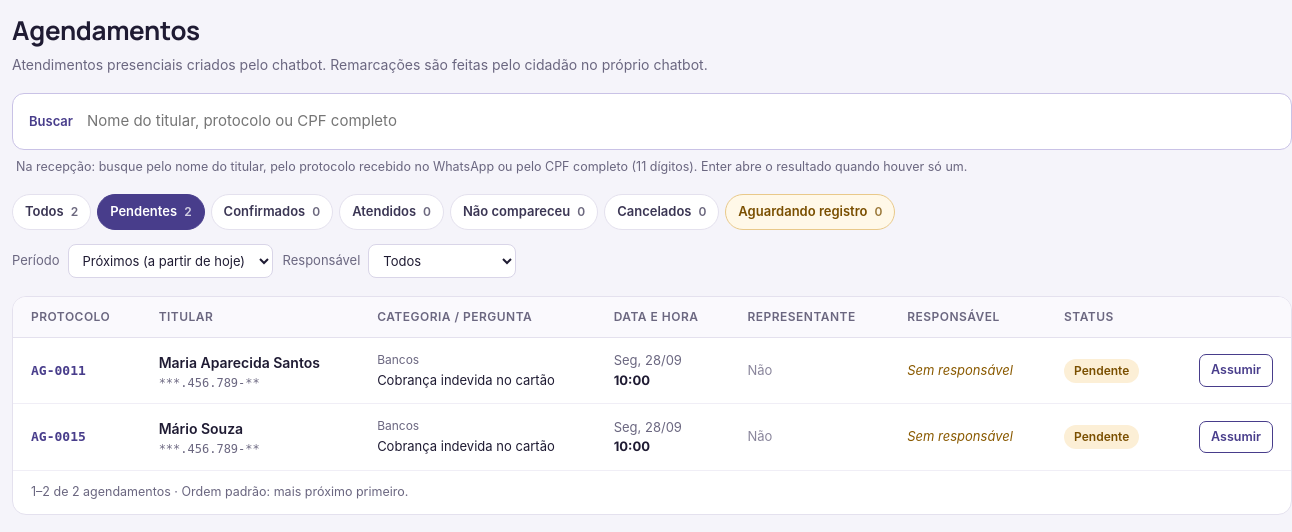
Appointments.page: busca › não põe o CPF buscado na URL nem no histórico enquanto a busca está ativa
Expected: the text "Maria Aparecida Santos" is shown, [159,352,341,372]
Type "11122233344" into the search field labelled "Buscar" at (684, 121), box [83,100,1285,142]
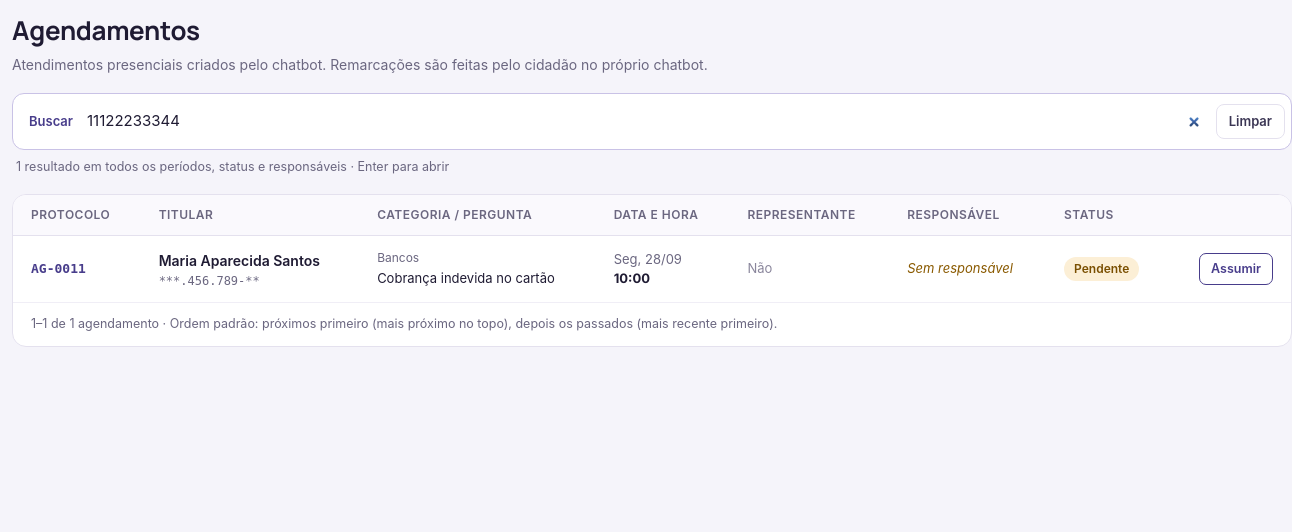
Expected: the text "1 resultado" is shown, [16,158,449,174]
